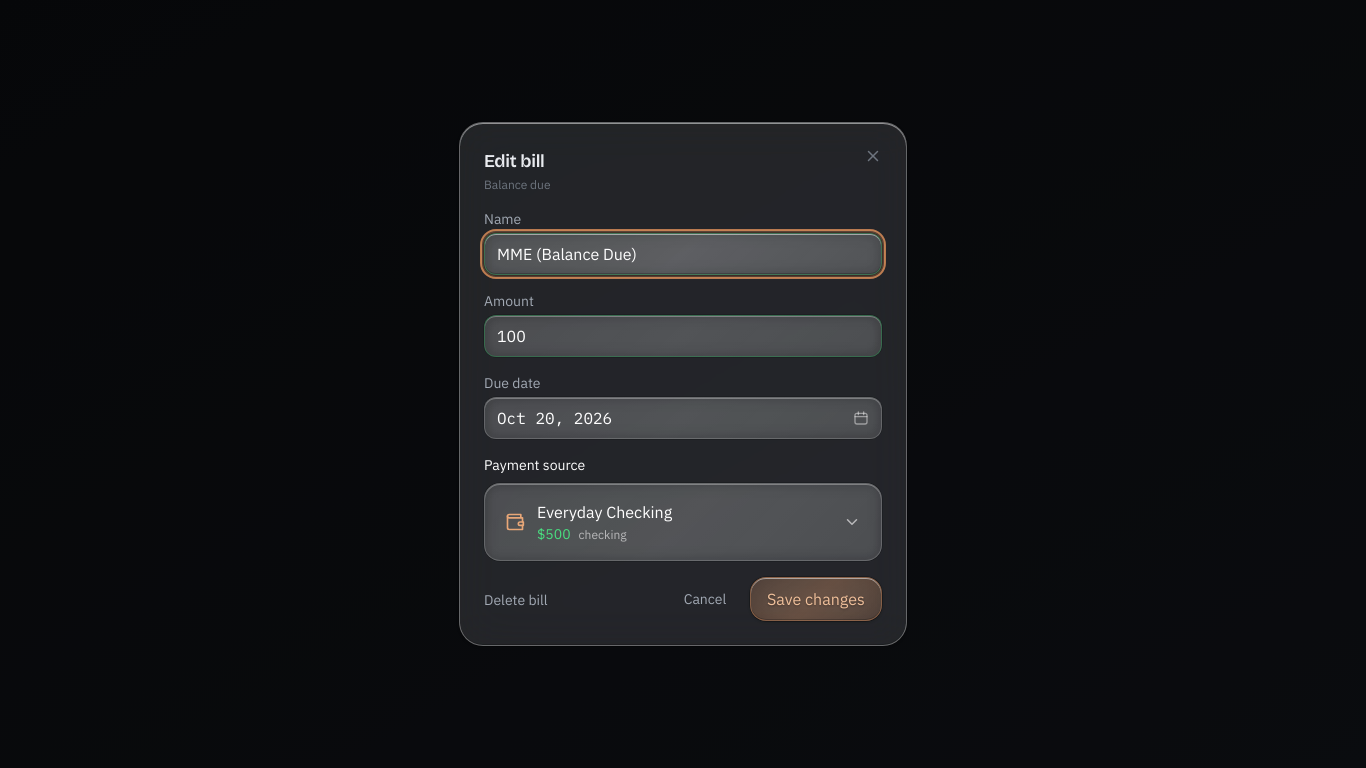
Scenario: EditExpenseModal — removing a bill › says what deleting a Balance Due means
Click the button "Delete bill". click: (516, 600)
box: [484,590,548,610]
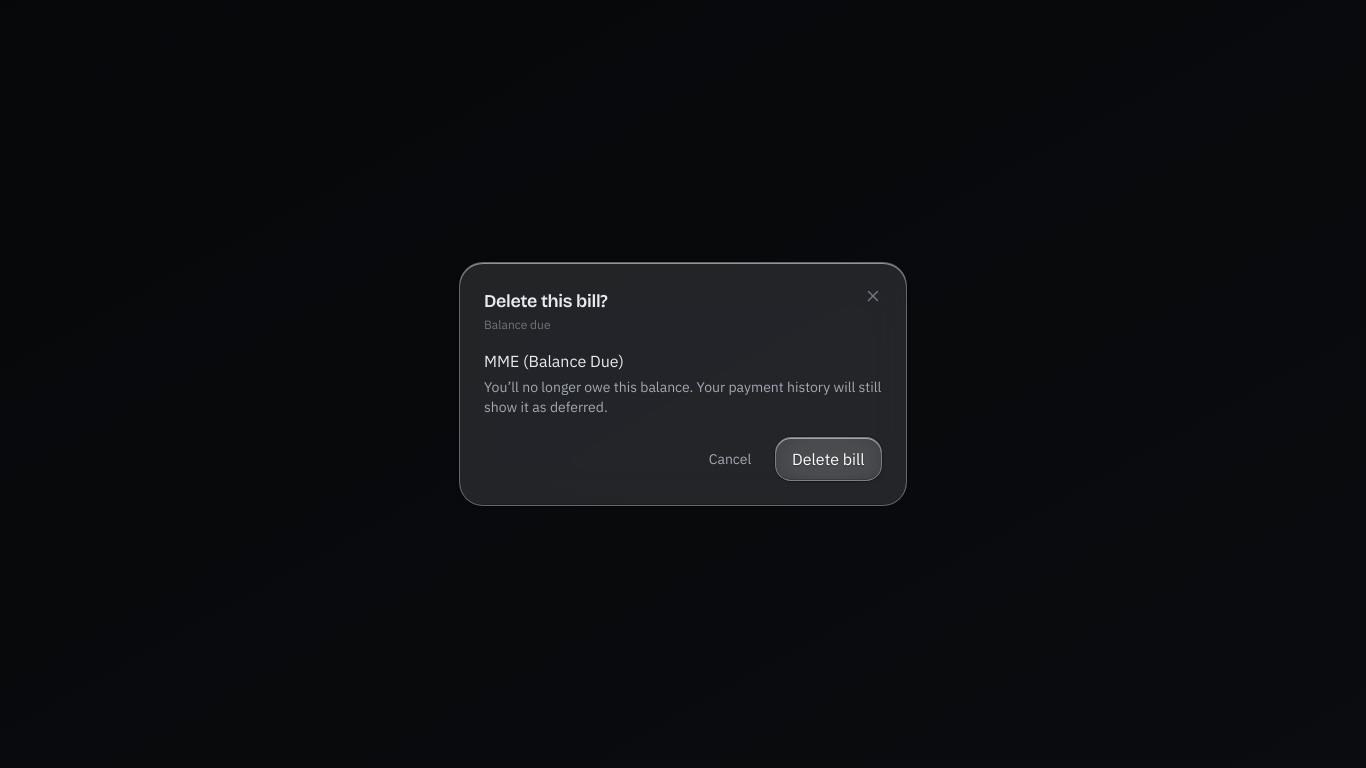
Expected: the text "still show it as deferred" is shown, [484,378,881,416]
